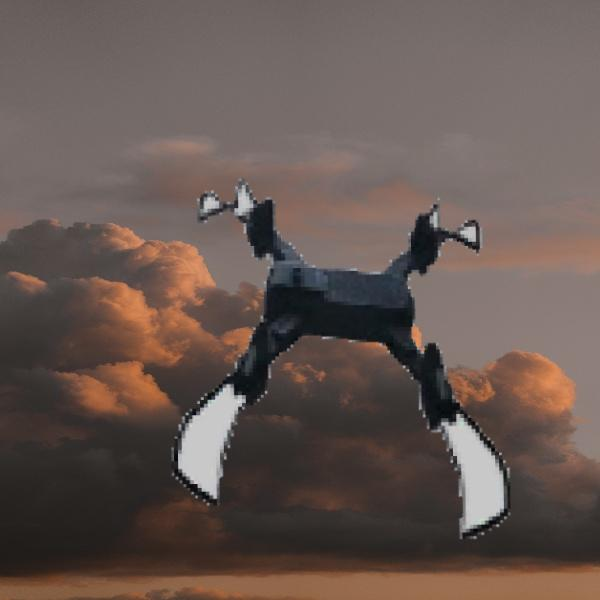drone: (158, 165, 541, 548)
